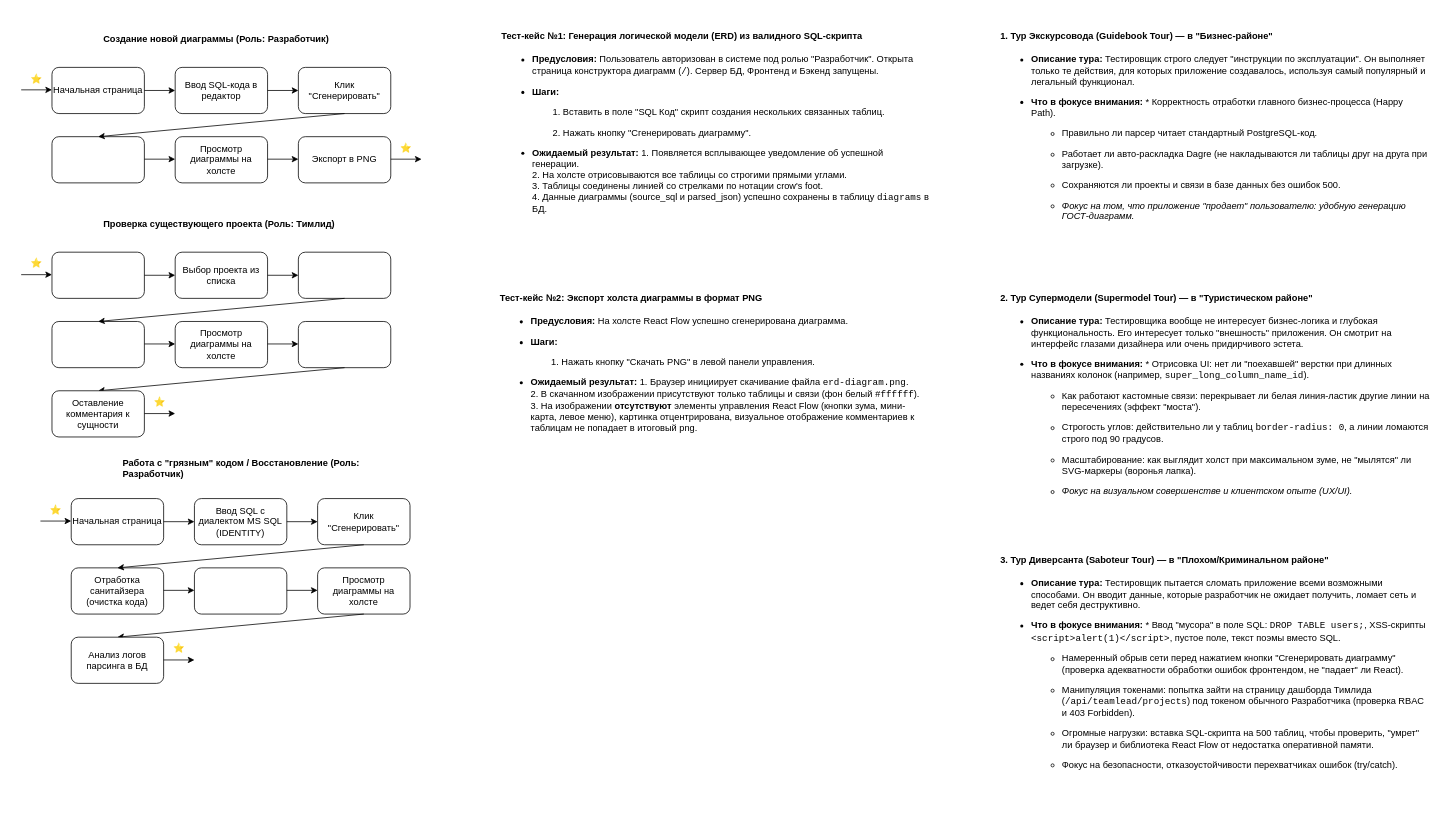
Some shapes in this 1443 by 835 pixel diagram are drawn without their labels. Each missing label, with the centre of its shape:
"Выбор диаграммы разработчика" goes at pixel 344 274.
"Дашборд Тимлида" goes at pixel 97 274.
"Загрузка JSON из БД" goes at pixel 97 344.
"Клик по таблице" goes at pixel 344 344.
"Отрисовка графа Dagre" goes at pixel 97 159.
"Резервный Regex-парсер таблиц" goes at pixel 240 590.
